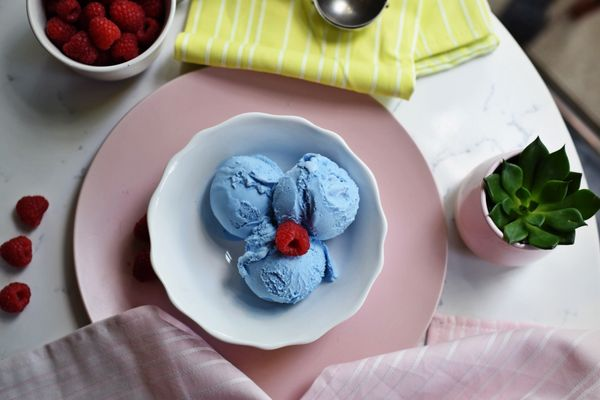sushi: (454, 132, 598, 268), (26, 0, 191, 81)
